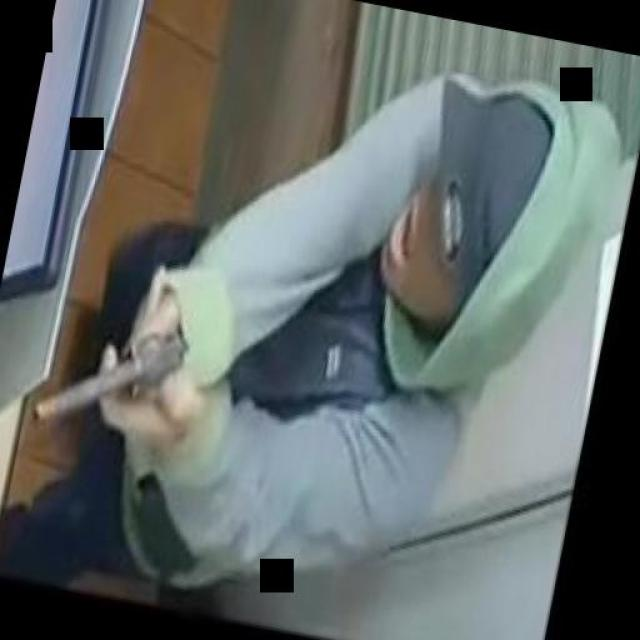gun: (29, 289, 202, 456)
